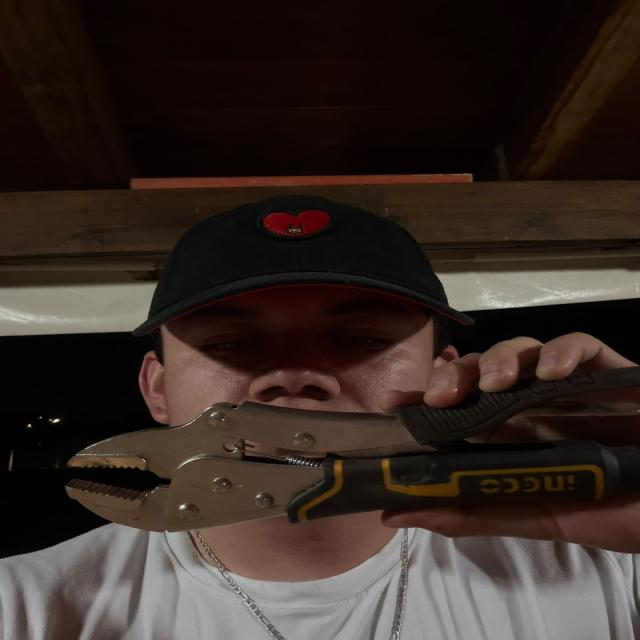PinzasPresion: (48, 334, 640, 564)
